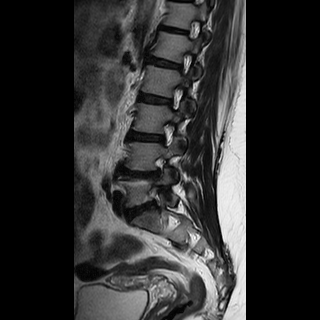LFS0: (155, 117, 179, 152), (164, 81, 186, 117), (174, 46, 196, 80)
LFS2: (145, 151, 170, 184)
